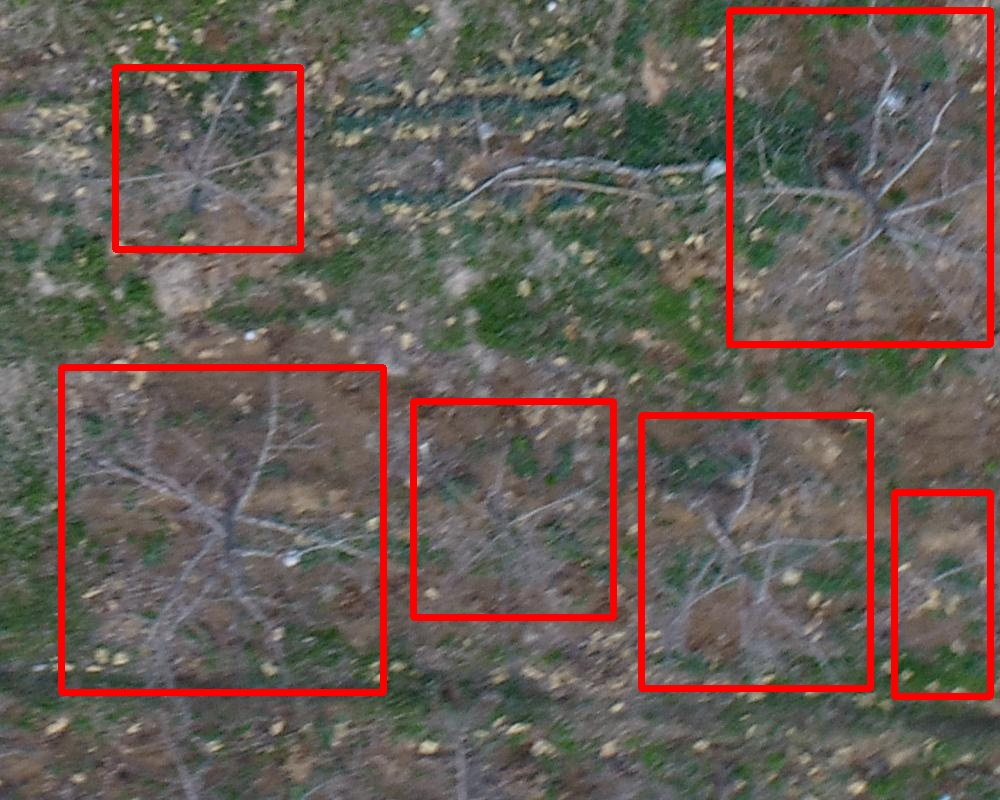apple: (61, 367, 383, 692), (729, 10, 990, 344), (641, 415, 870, 688), (413, 401, 613, 617), (115, 67, 300, 249), (894, 492, 990, 696)
